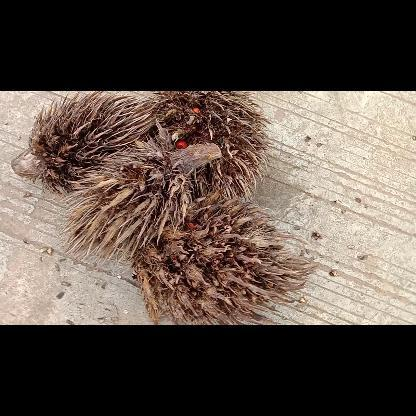Janjang kosong: (122, 194, 316, 324), (60, 137, 222, 259), (10, 91, 154, 197), (157, 90, 274, 200)
